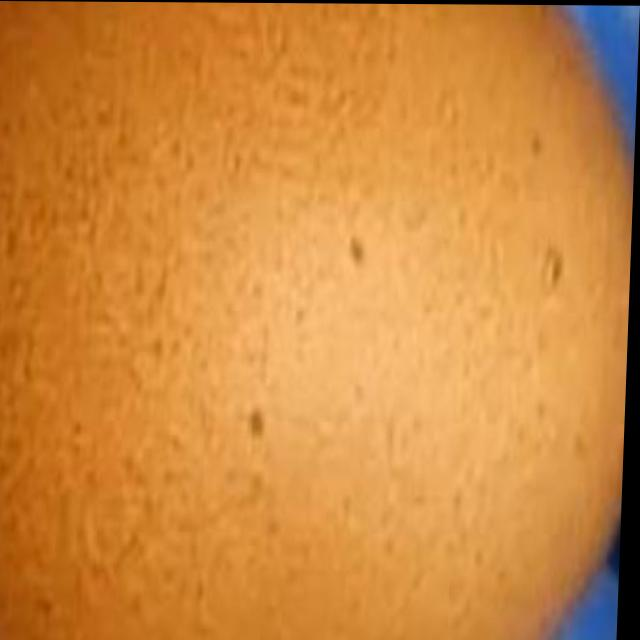unfresh: (0, 0, 638, 640)
